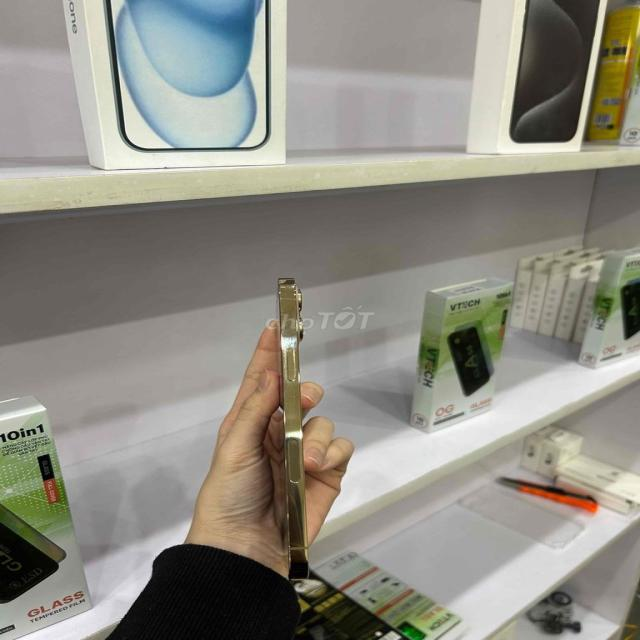gen_12_13: (268, 268, 322, 581)
